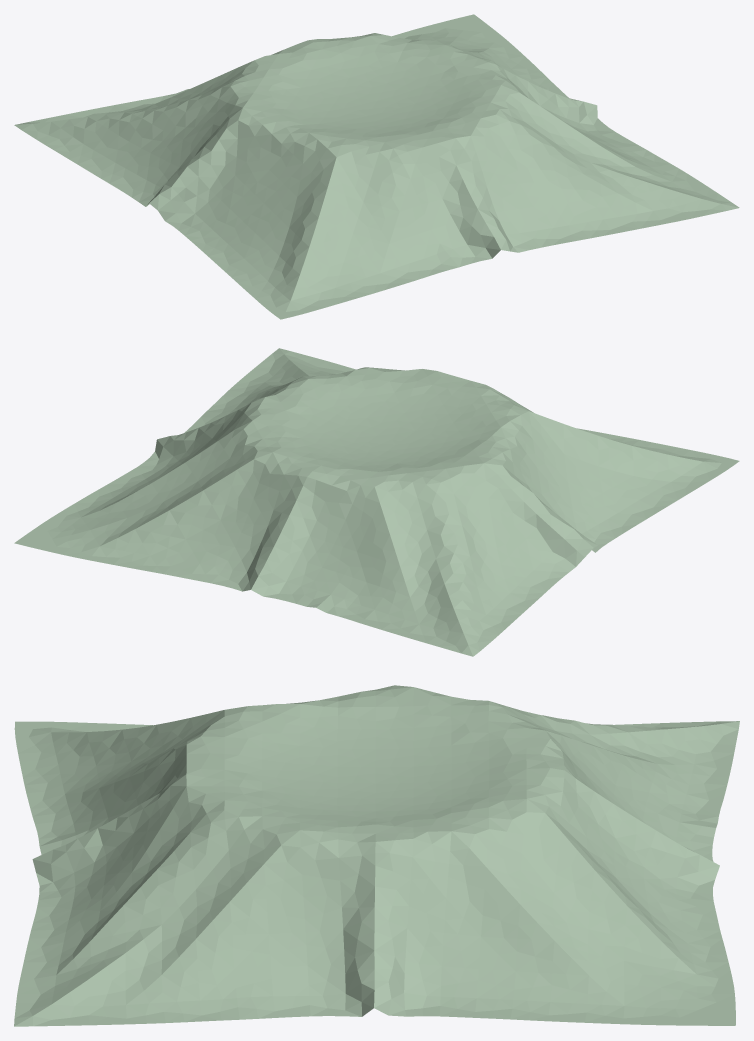
File: level_1.glb
3 views of the same model, one above another, from view 1: azimuth 30°, elevation 25°; view 2: azimuth 150°, elevation 25°; view 3: azimuth 270°, elevation 25° (orthographic). The views are drawn at different scales.
Parts seen in each view (by area): view 1: world; view 2: world; view 3: world.
Boxes of the visible parts, <box> form: world: <box>14,14,739,319</box>; world: <box>14,348,739,656</box>; world: <box>14,685,739,1026</box>.
Size of the model in its own units: 0.6101 by 0.1001 by 0.6127.
